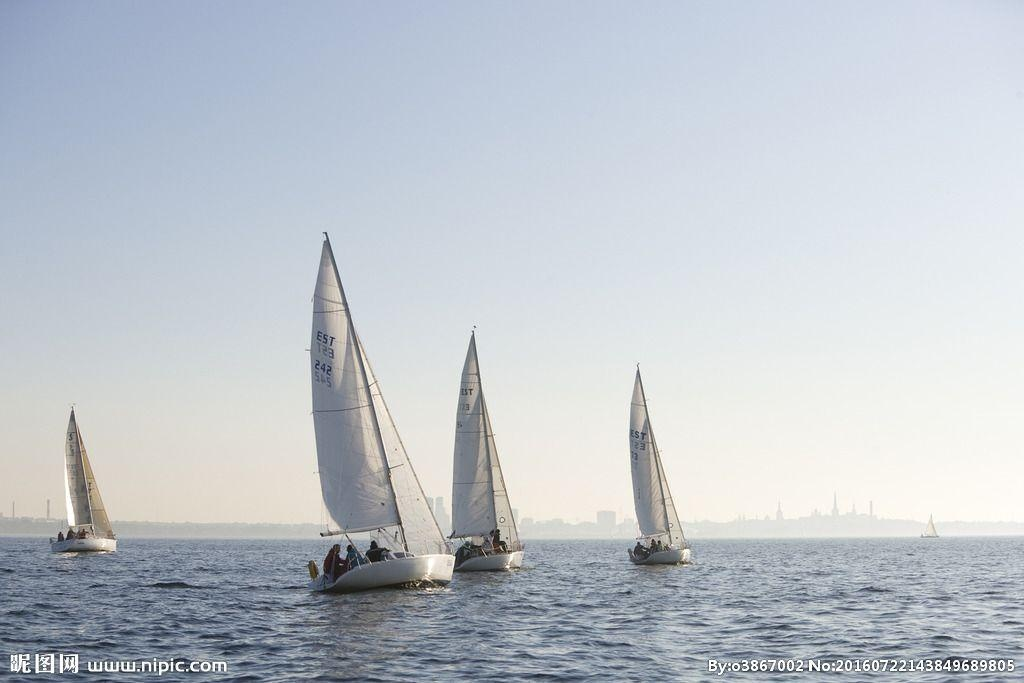fanchuan: (289, 226, 461, 589), (448, 313, 533, 569), (614, 355, 697, 568), (38, 404, 140, 555)
